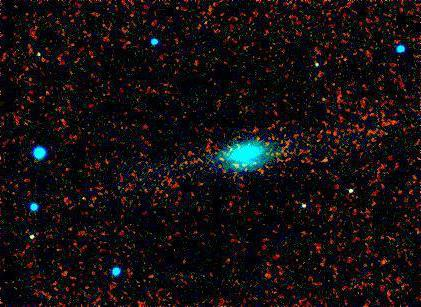star: (308, 146, 338, 176)
